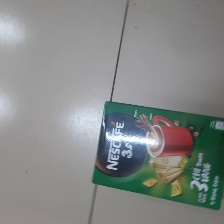Nes Rang: (90, 100, 223, 211)
